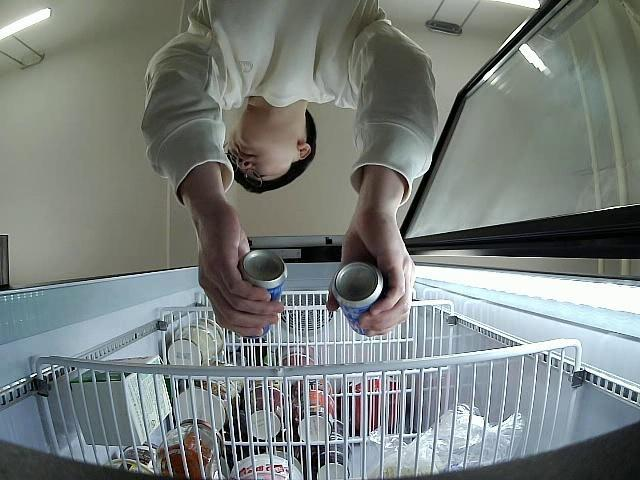15_letsbe: (239, 251, 288, 338), (330, 262, 384, 336)
